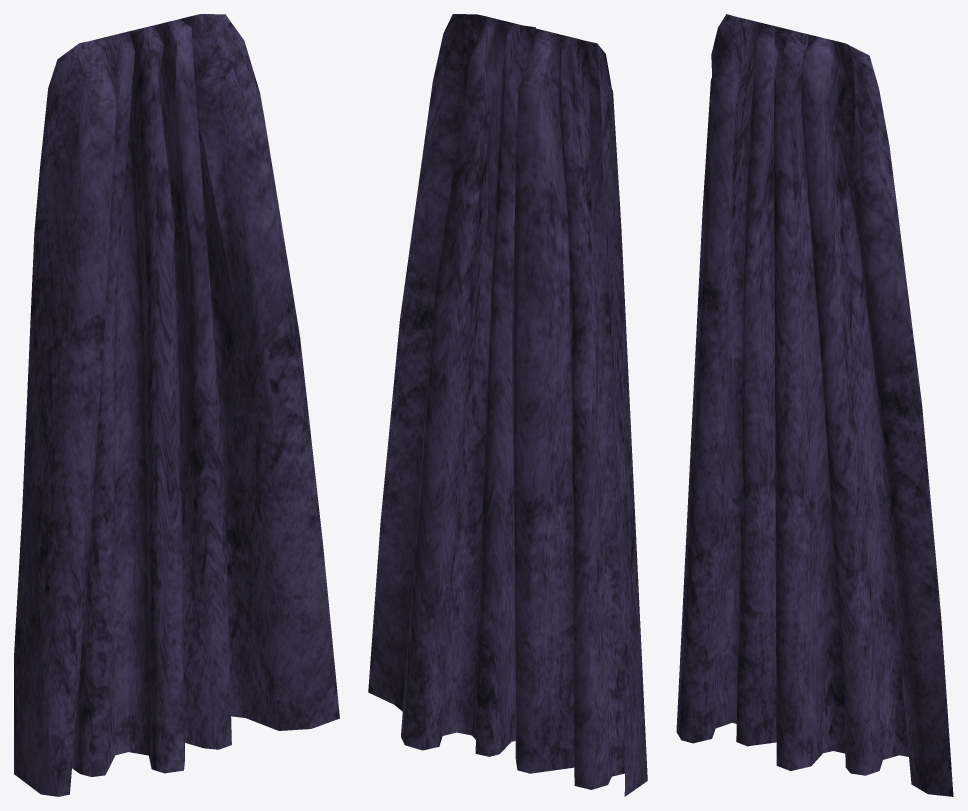
Rendered from curtain_1_1.fbx.
The picture shows the model from 3 angles, left to right: view 1: azimuth 30°, elevation 25°; view 2: azimuth 150°, elevation 25°; view 3: azimuth 330°, elevation 25°; orthographic projection.
Parts seen in each view (by area): view 1: Grid; view 2: Grid; view 3: Grid.
Part boxes in pixels (<box>): Grid: <box>14,14,339,796</box>; Grid: <box>368,14,647,796</box>; Grid: <box>676,14,953,796</box>.
Bounding box in the file's own units: 77.82 × 187 × 19.66.
